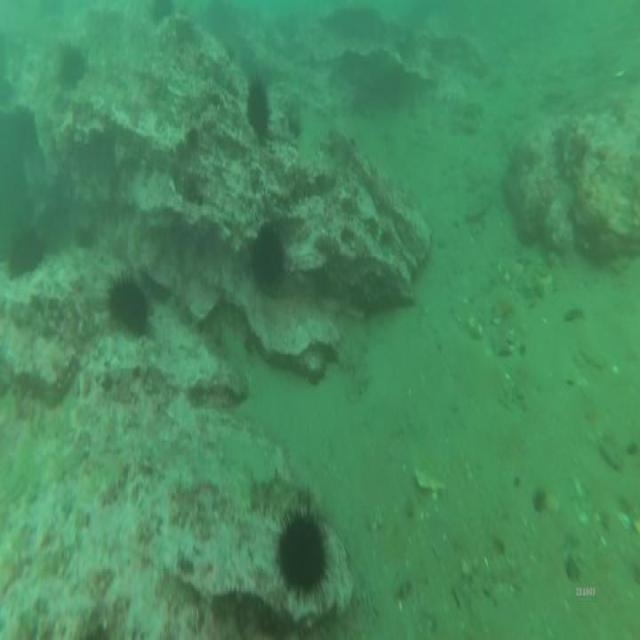echinus: (267, 488, 337, 610), (103, 264, 153, 344), (246, 217, 292, 297), (244, 66, 276, 150), (7, 221, 46, 286)
holothurian: (245, 468, 303, 520)
